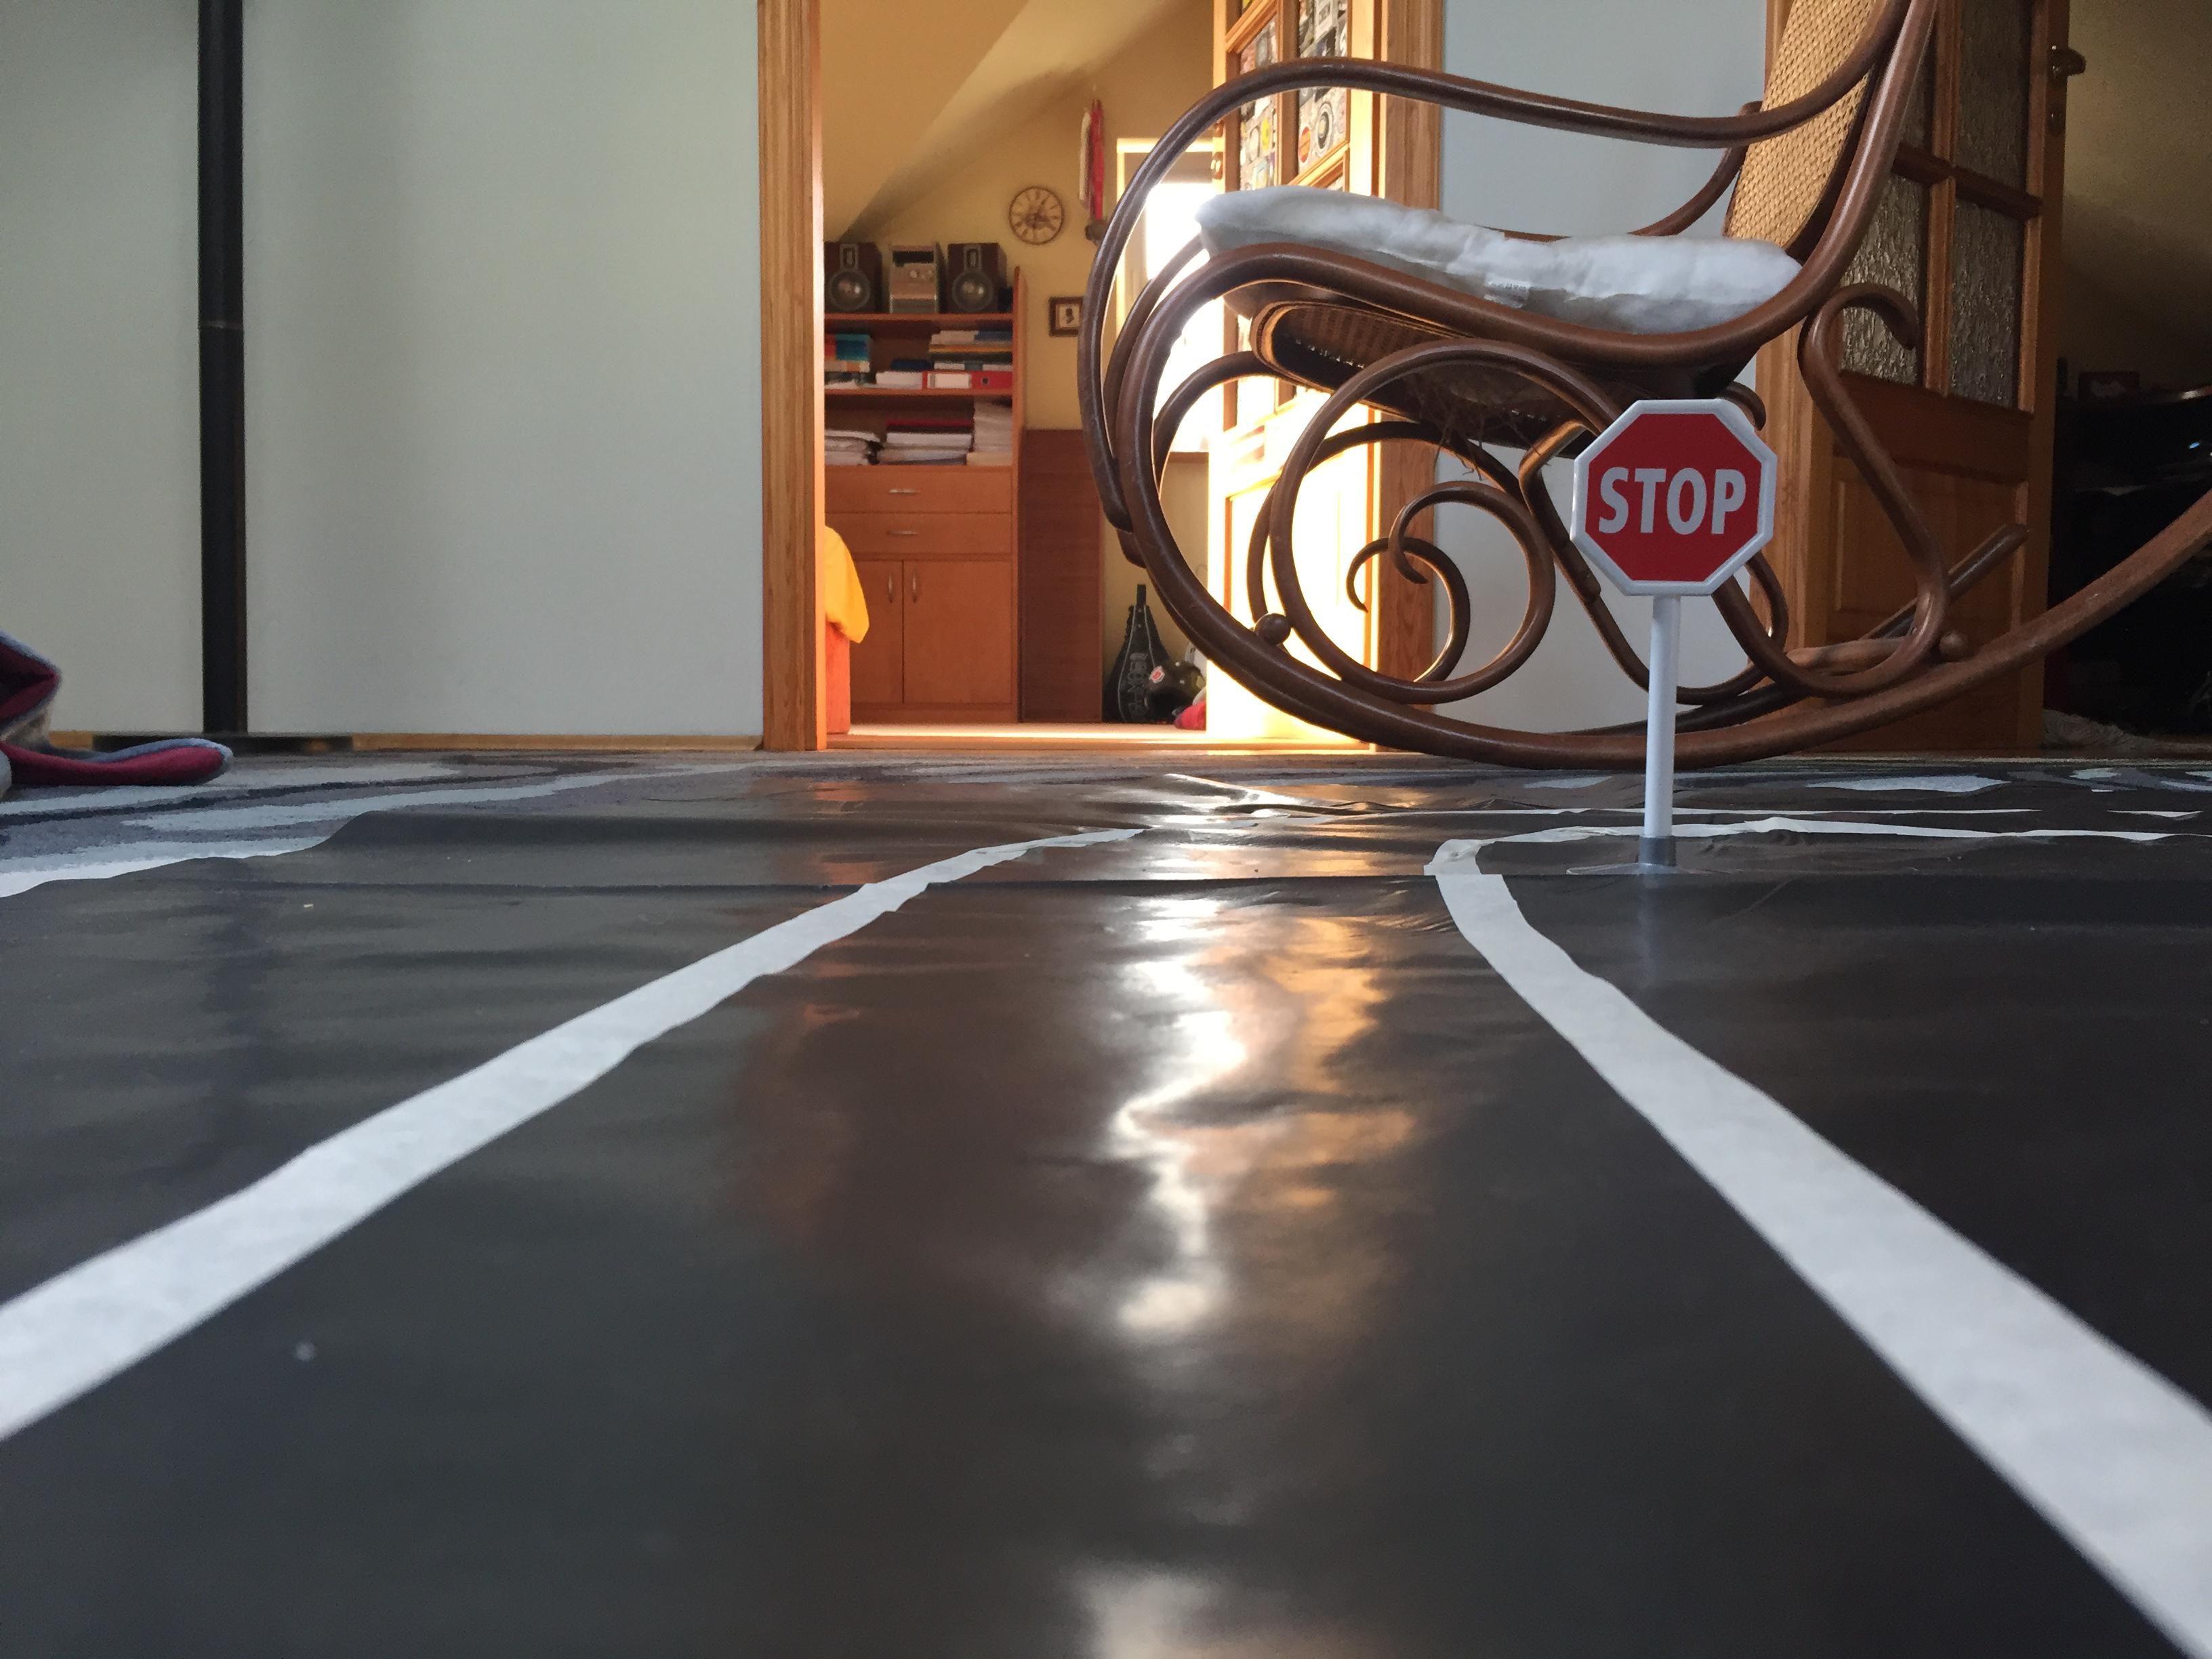stop: (1554, 389, 1785, 606)
